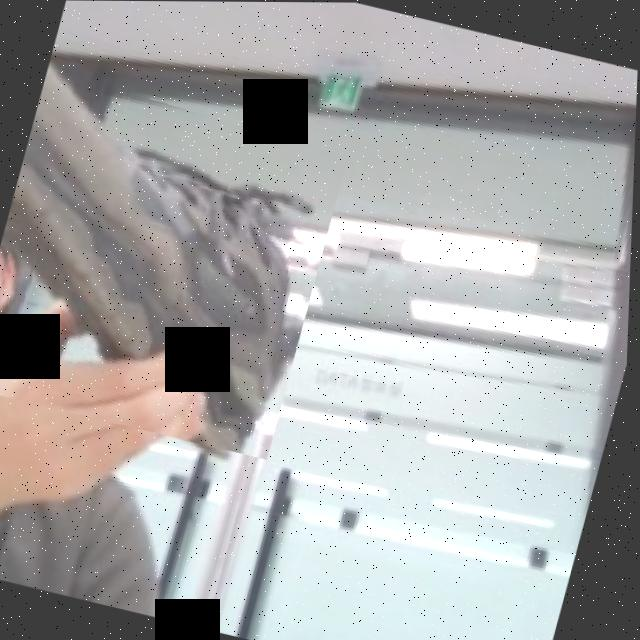shoe: (0, 67, 355, 459)
